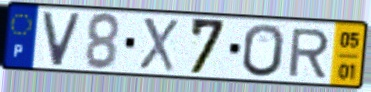7: (187, 16, 227, 77)
8: (83, 11, 123, 72)
O: (242, 22, 287, 79)
R: (286, 27, 332, 79)
V: (40, 10, 84, 69)
X: (137, 15, 180, 74)
